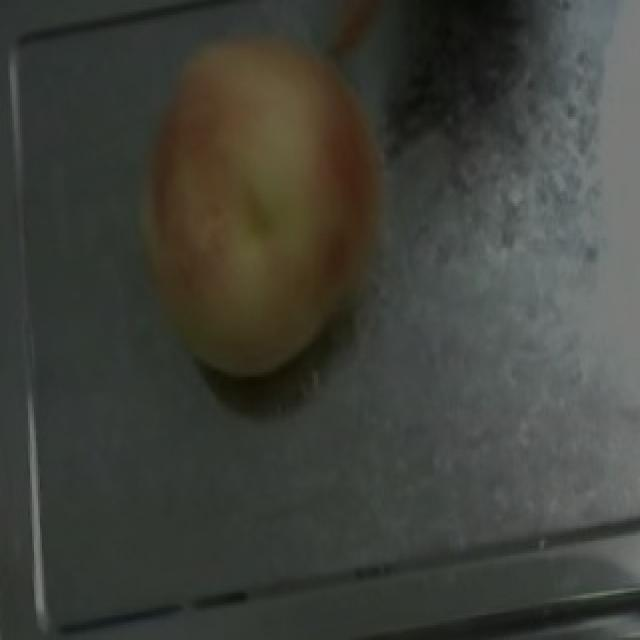Fruit: (104, 0, 422, 414)
